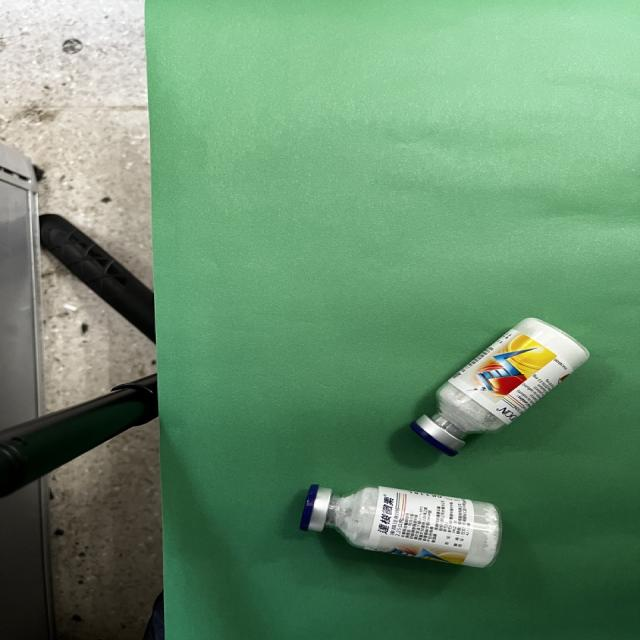Vials: (411, 318, 589, 456), (299, 484, 501, 568)
